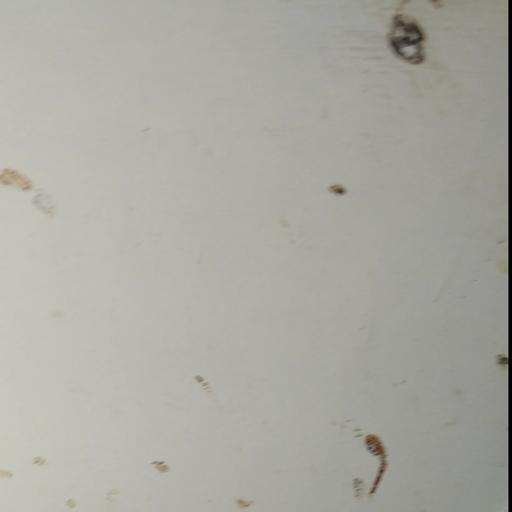stain: (335, 418, 420, 512), (0, 152, 87, 241), (370, 3, 455, 80), (0, 446, 93, 512), (137, 446, 189, 491), (323, 173, 366, 213), (185, 361, 219, 404), (488, 340, 512, 392), (218, 493, 270, 512), (271, 211, 300, 245)
